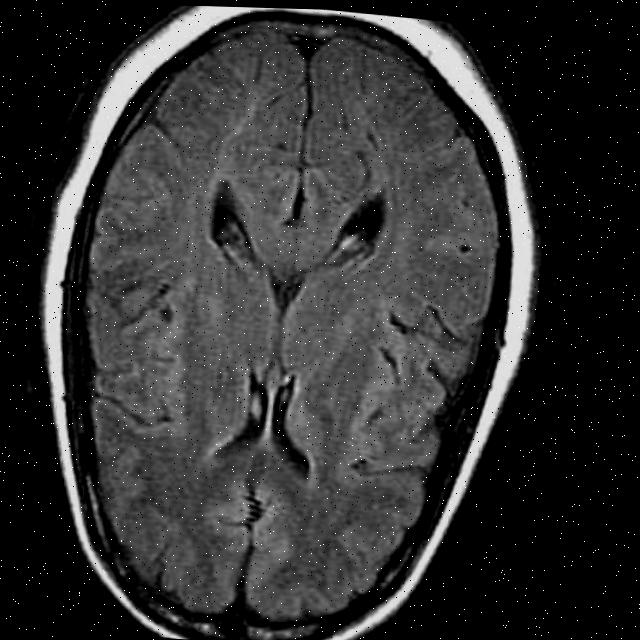NoTumor: (0, 0, 573, 640)
